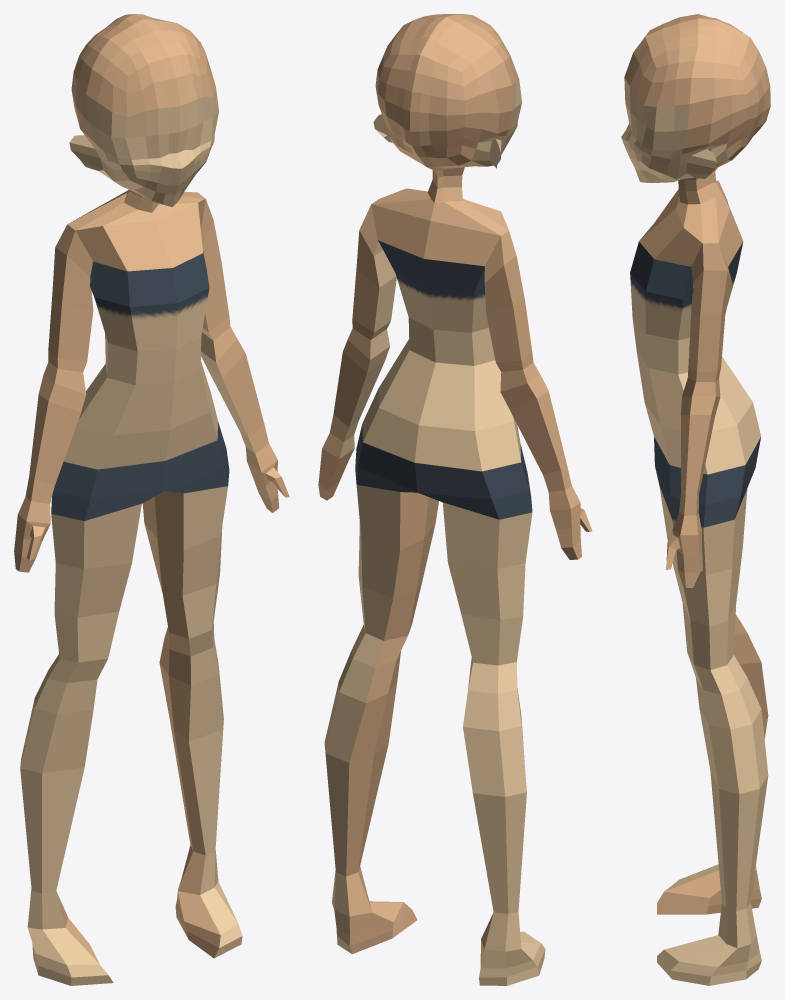
File: body.fbx
The picture shows the model from 3 angles, left to right: view 1: azimuth 30°, elevation 25°; view 2: azimuth 150°, elevation 25°; view 3: azimuth 270°, elevation 25°; orthographic projection.
Parts seen in each view (by area): view 1: Cube; view 2: Cube; view 3: Cube.
Boxes of the visible parts, box(x1,y1,x2,y2) form: Cube: box(14, 14, 289, 985); Cube: box(318, 14, 592, 985); Cube: box(621, 14, 770, 985).
Size of the model in its own units: 133 by 456 by 67.21.
